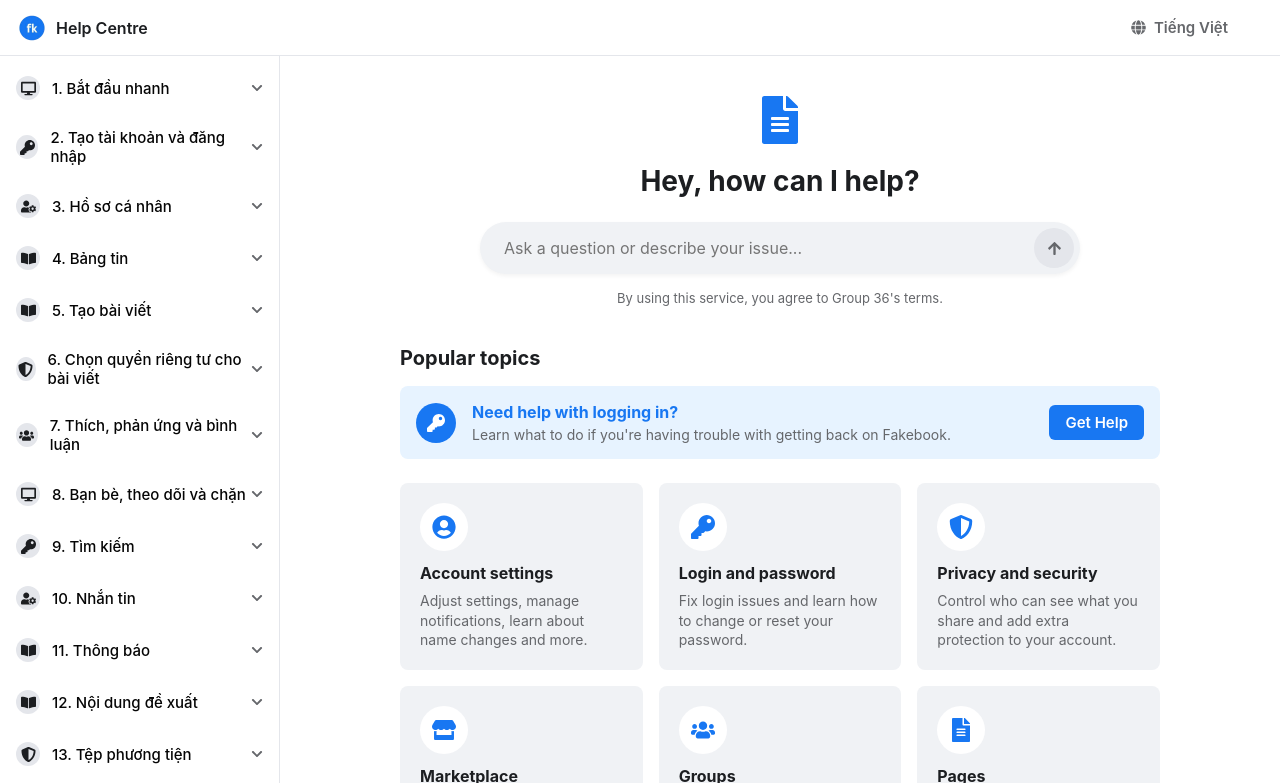
Test: HelpPage Component › searches help articles locally and opens the selected result
The width and height of the screenshot is (1280, 783).
In the field with placeholder "Ask a question or describe your issue...": point(780, 248) [480, 222, 1080, 274], type "Đăng ký tài khoản"
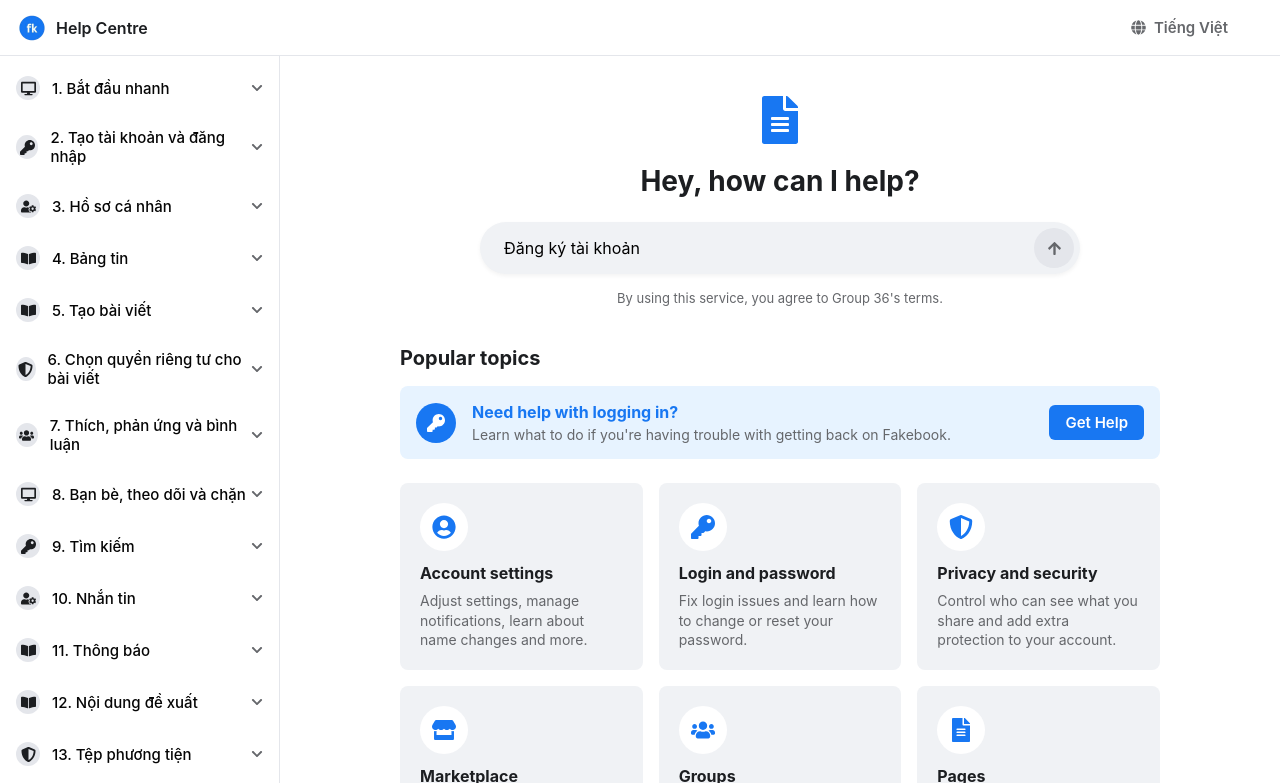
Click the button named "Search help articles": point(1054, 248) [1034, 228, 1074, 268]
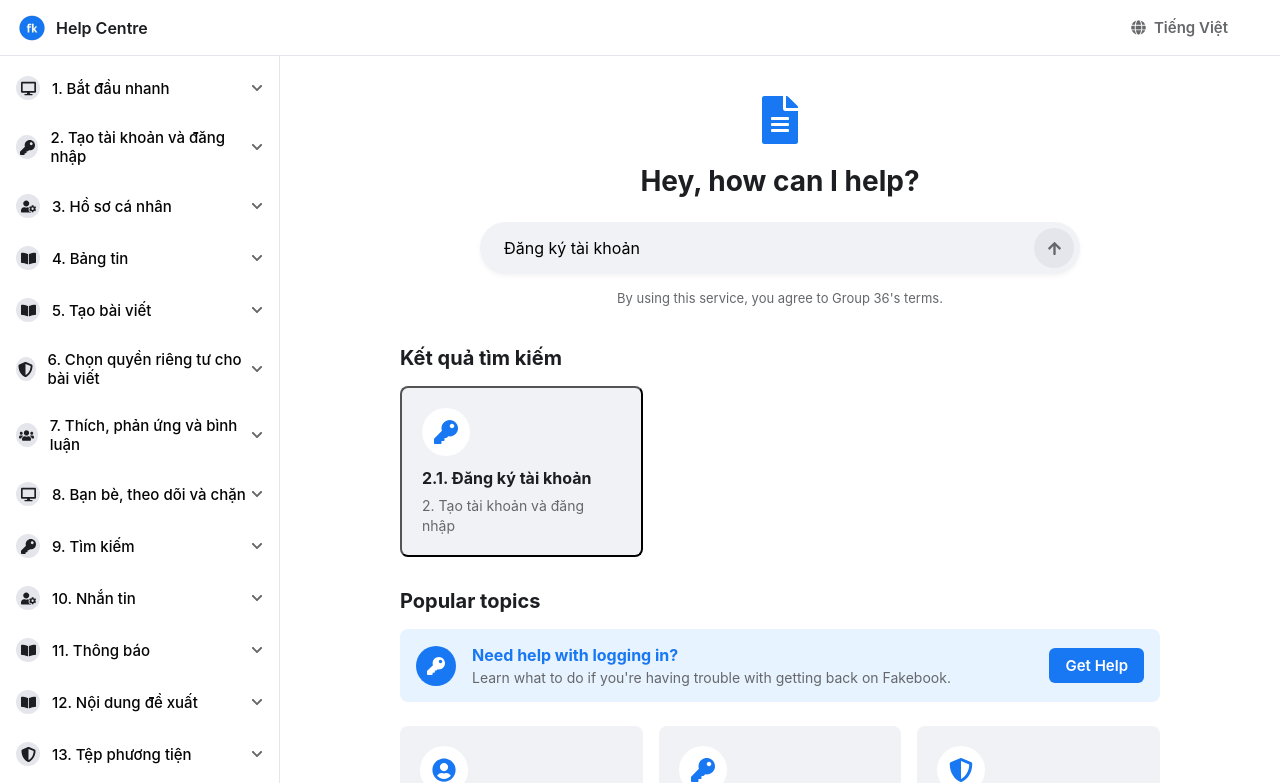
Expected: the heading "Kết quả tìm kiếm" is shown, [400, 346, 562, 370]
Click the button "2.1. Đăng ký tài khoản 2. Tạo tài khoản và đăng nhập": point(521, 472) [400, 386, 643, 557]
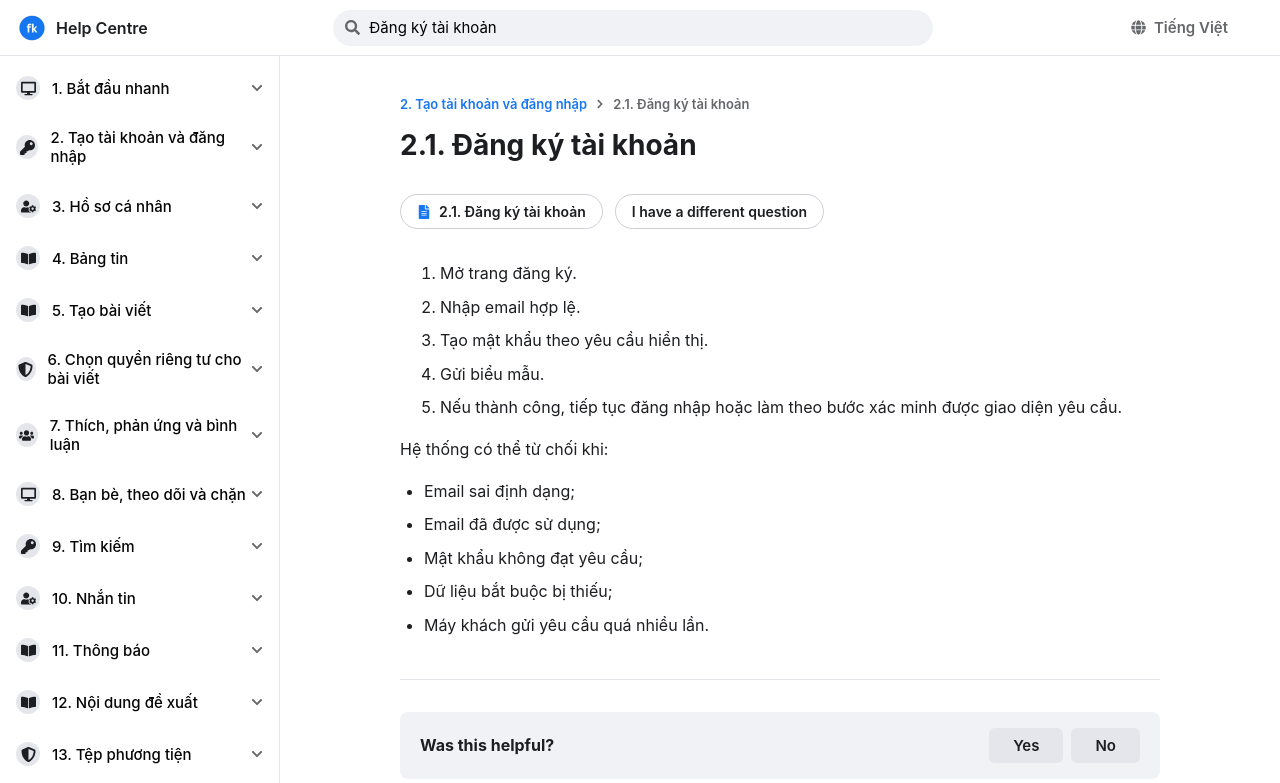
Expected: the heading "2.1. Đăng ký tài khoản" is shown, [400, 128, 697, 162]
